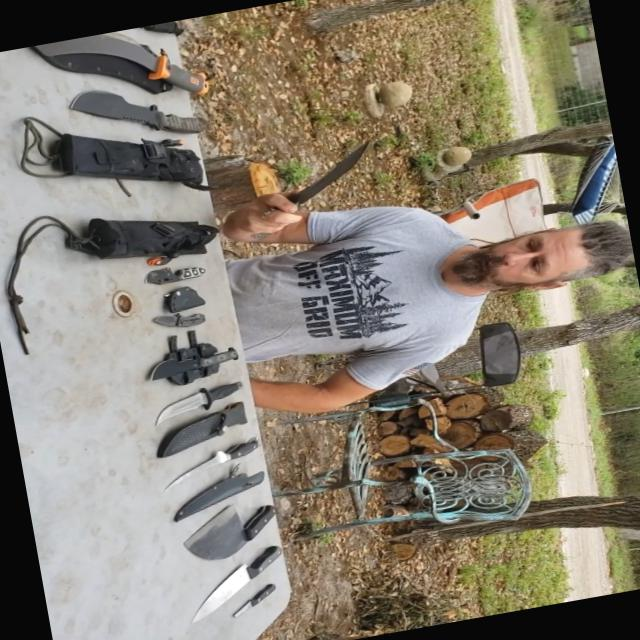knife: (26, 14, 227, 126), (48, 56, 220, 156), (170, 530, 302, 626), (247, 140, 387, 226), (174, 491, 291, 567), (157, 427, 280, 497), (142, 376, 262, 429), (139, 340, 249, 392), (130, 256, 220, 298), (133, 300, 215, 340), (222, 582, 280, 624)
